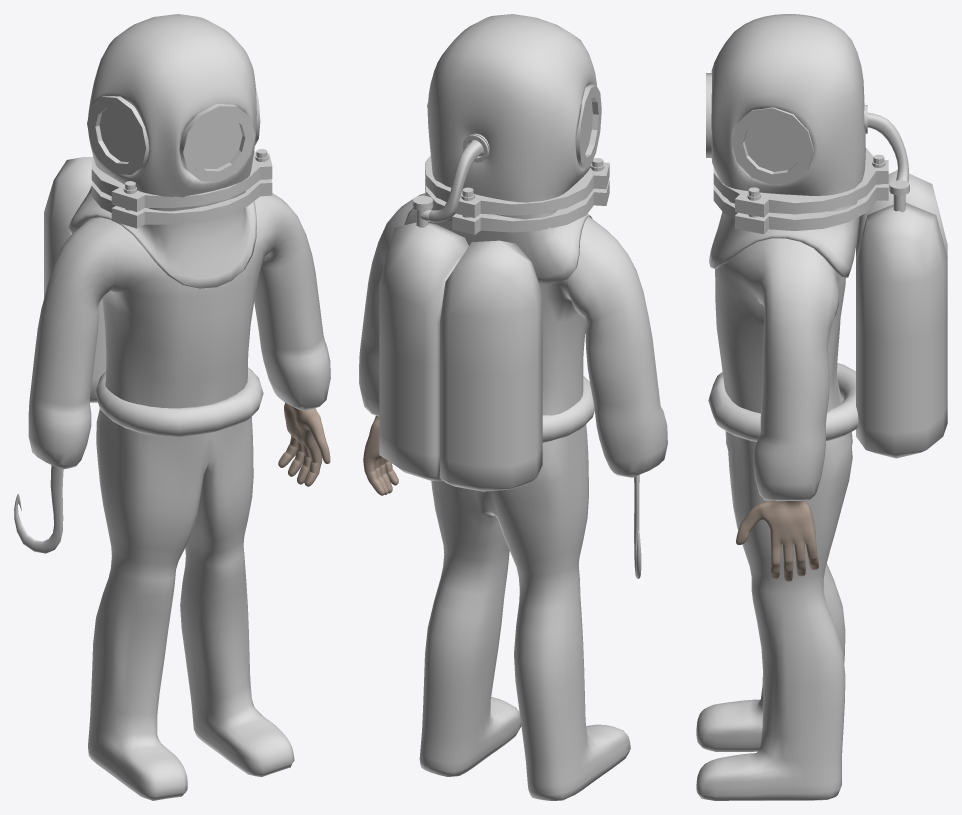
The model's file is Suba_Dive.FBX.
3 views of the same model, side by side, from view 1: azimuth 30°, elevation 25°; view 2: azimuth 150°, elevation 25°; view 3: azimuth 270°, elevation 25° (orthographic). The views are drawn at different scales.
Visible parts, largest first — view 1: Box002, Helmet, Hinges, Torus001, Cylinder001, Air Tank, Cylinder002, Object001, Cylinder010; view 2: Box002, Air Tank, Helmet, Hinges, Cylinder002, Torus001, Object001, Cylinder010; view 3: Box002, Helmet, Air Tank, Hinges, Cylinder003, Object001, Torus001, Cylinder001.
Part boxes in pixels (x1,y1,x2,y2): Box002: (28,193,330,800); Helmet: (68,14,256,288); Hinges: (91,151,272,228); Torus001: (95,367,263,437); Cylinder001: (179,104,255,181); Air Tank: (44,157,106,402); Cylinder002: (87,95,149,174); Object001: (278,402,330,486); Cylinder010: (14,465,63,553); Box002: (359,193,667,800); Air Tank: (379,222,542,491); Helmet: (403,14,596,284); Hinges: (425,155,609,234); Cylinder002: (575,84,601,169); Torus001: (542,376,594,442); Object001: (363,415,398,495); Cylinder010: (634,475,641,578); Box002: (696,238,852,800); Helmet: (709,14,908,277); Air Tank: (856,170,947,458); Hinges: (713,148,888,234); Cylinder003: (731,107,813,185); Object001: (736,500,818,581); Torus001: (708,363,858,441); Cylinder001: (706,73,712,157).
Bounding box in the file's own units: 36.17 × 87.17 × 26.69.
